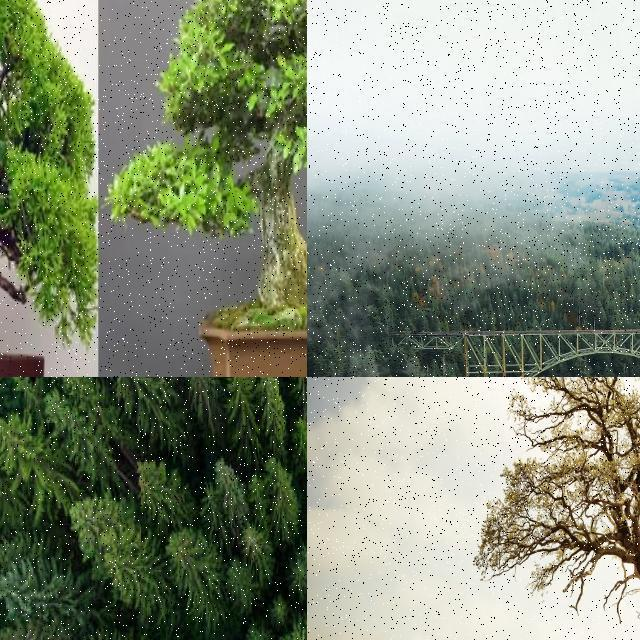tree: (101, 0, 306, 300), (0, 0, 152, 346), (478, 376, 640, 640), (0, 554, 96, 630), (0, 410, 68, 512), (101, 524, 161, 636), (95, 376, 179, 456), (171, 522, 223, 634), (72, 488, 134, 566), (142, 452, 195, 532), (260, 455, 300, 553), (256, 377, 286, 457), (187, 378, 223, 442), (225, 378, 255, 442), (220, 458, 248, 526), (288, 540, 308, 608), (287, 378, 307, 434), (292, 414, 308, 474), (242, 610, 270, 640), (576, 355, 592, 377), (595, 306, 605, 326), (530, 320, 542, 332), (490, 318, 498, 332)
